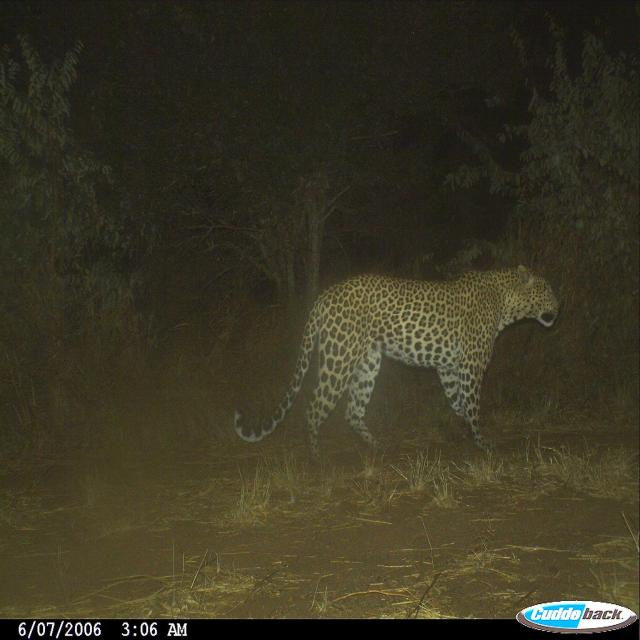Leopard: (229, 259, 570, 466)
